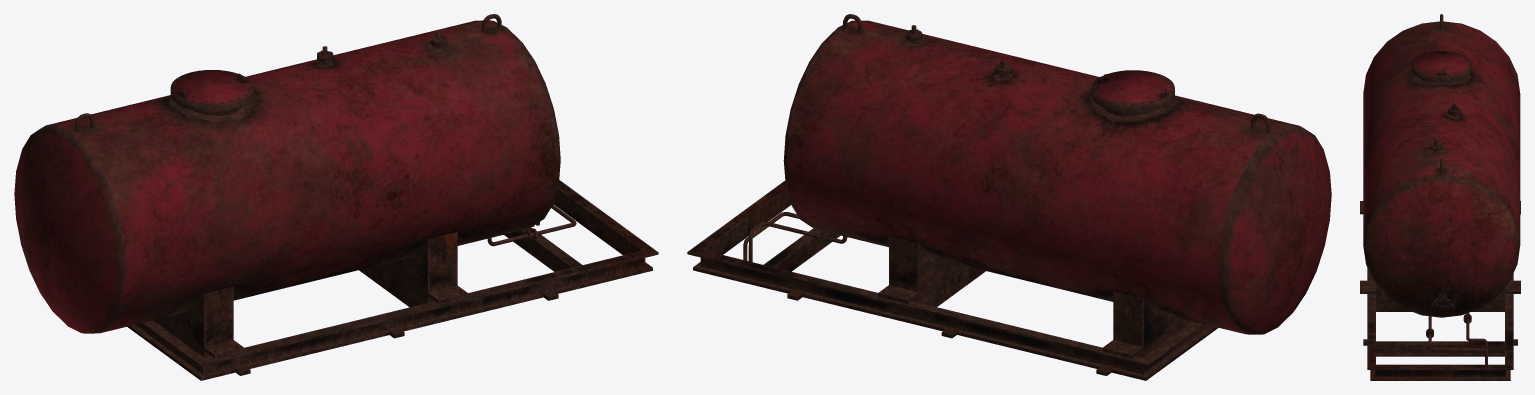
Rendered from fuel_tank.glb.
3 renders of one model, left to right at view 1: azimuth 30°, elevation 25°; view 2: azimuth 150°, elevation 25°; view 3: azimuth 270°, elevation 25°, orthographic. The views are drawn at different scales.
Visible parts, largest first — view 1: dock; view 2: dock; view 3: dock.
Part boxes in pixels (box(x1,y1,x2,y2)): dock: box(14, 14, 658, 380); dock: box(687, 14, 1331, 380); dock: box(1360, 14, 1520, 380).
Size of the model in its own units: 3.12 by 1.33 by 1.06.
1 material, 1 textured.
